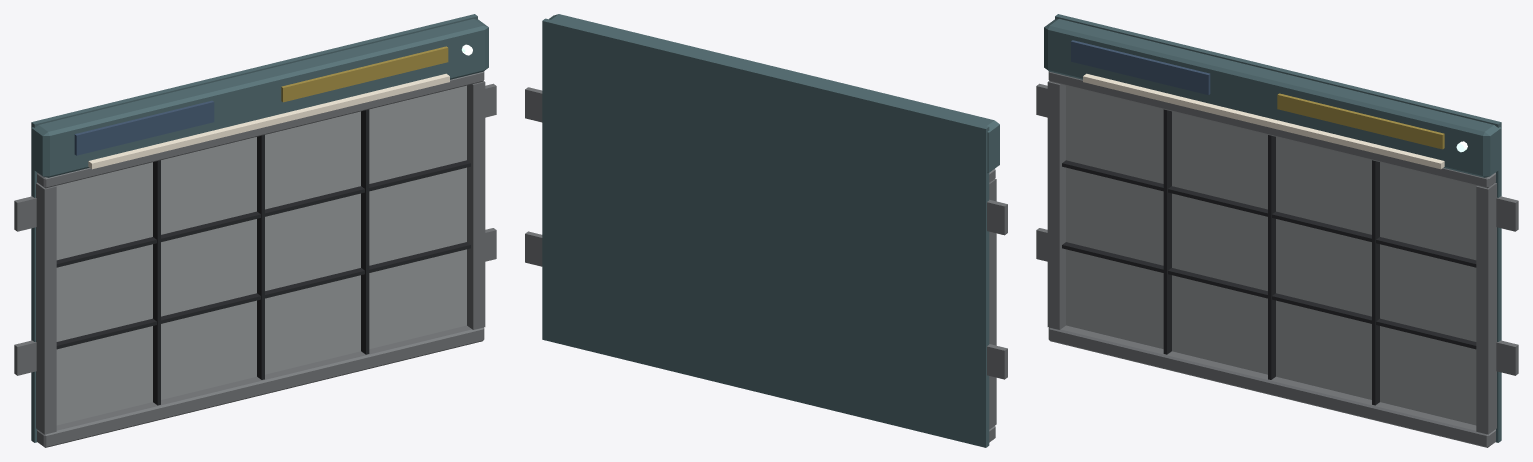
The model's file is astro_small_gear_board.fbx.
The picture shows the model from 3 angles, left to right: view 1: azimuth 30°, elevation 25°; view 2: azimuth 150°, elevation 25°; view 3: azimuth 330°, elevation 25°; orthographic projection.
Visible parts, largest first — view 1: SmallGearBoard_Body; view 2: SmallGearBoard_Body; view 3: SmallGearBoard_Body.
Boxes of the visible parts, x1=… form: SmallGearBoard_Body: x1=14, y1=14, x2=496, y2=447; SmallGearBoard_Body: x1=525, y1=14, x2=1007, y2=447; SmallGearBoard_Body: x1=1036, y1=14, x2=1518, y2=447.
Bounding box in the file's own units: 174 × 110 × 11.25.
